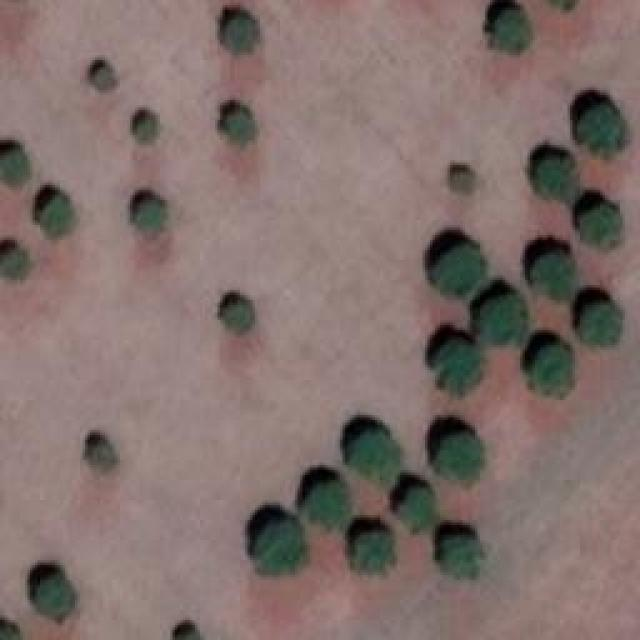Tree: (253, 523, 308, 578), (348, 430, 401, 485), (575, 105, 628, 153), (435, 245, 485, 295), (475, 297, 525, 345), (530, 343, 575, 396), (435, 435, 480, 485), (305, 480, 350, 530), (438, 340, 478, 390), (533, 253, 576, 298), (350, 533, 395, 573), (580, 305, 620, 348), (492, 10, 530, 53), (443, 535, 483, 575), (38, 575, 73, 620), (580, 207, 620, 245), (537, 158, 575, 198), (398, 488, 433, 528), (223, 18, 258, 53), (40, 198, 70, 238), (0, 150, 30, 188), (135, 200, 165, 230), (0, 250, 28, 280), (225, 300, 253, 330), (228, 112, 253, 140), (88, 445, 113, 468), (138, 118, 158, 141), (453, 170, 473, 193), (95, 68, 113, 88)
